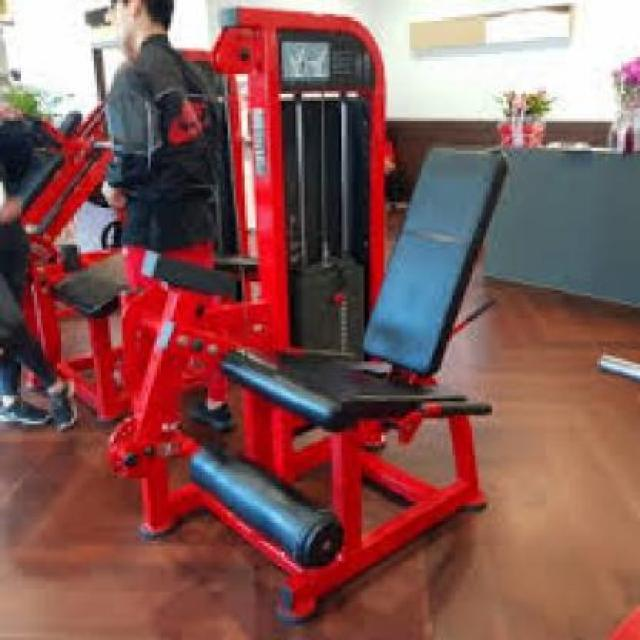leg extension: (89, 0, 526, 637)
